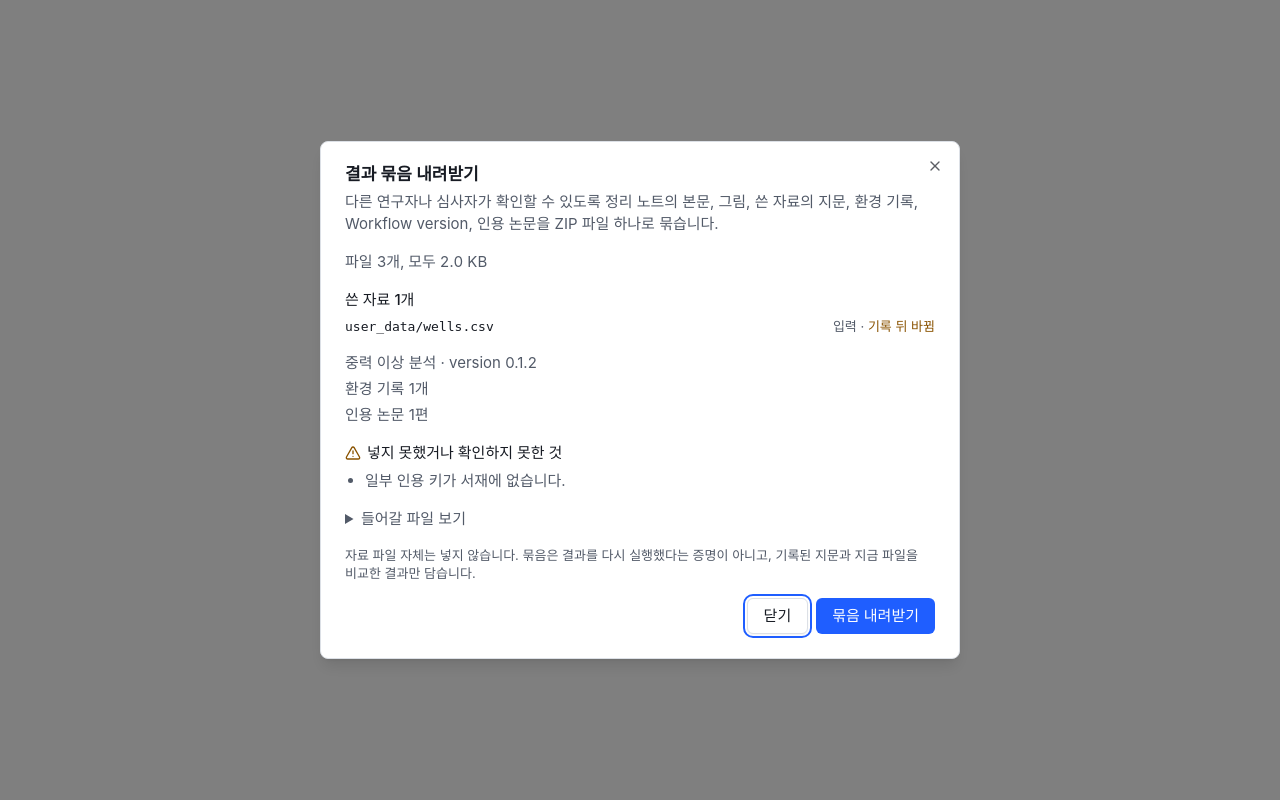
previews the result bundle and downloads it after checking the fingerprint
Expected: the text "파일 3개, 모두 2.0 KB" is shown, [345,252,487,271]
Expected: the text "user_data/wells.csv" is shown, [345,318,494,336]
Click the button "묶음 내려받기".
click(876, 616)  # box [816,598,935,634]
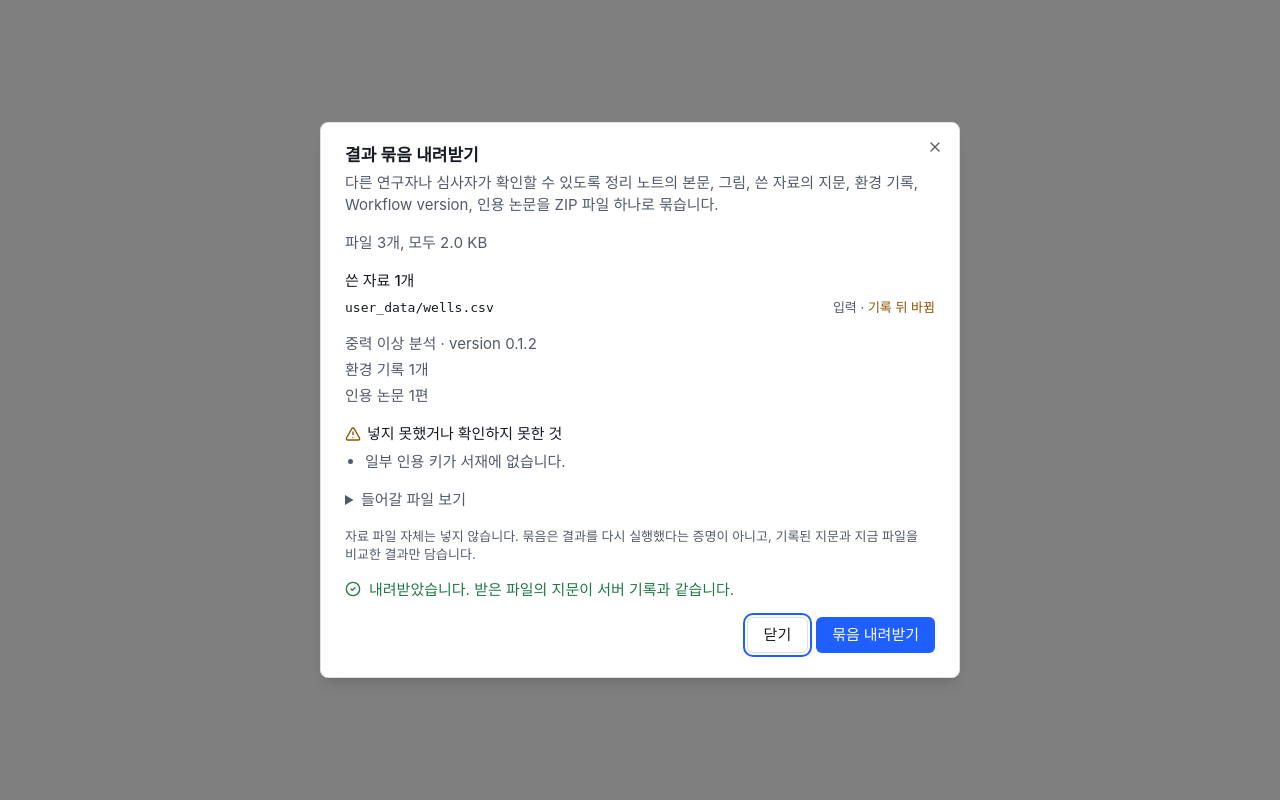
Now the text "내려받았습니다. 받은 파일의 지문이 서버 기록과 같습니다." is shown, box [345,580,734,599]
